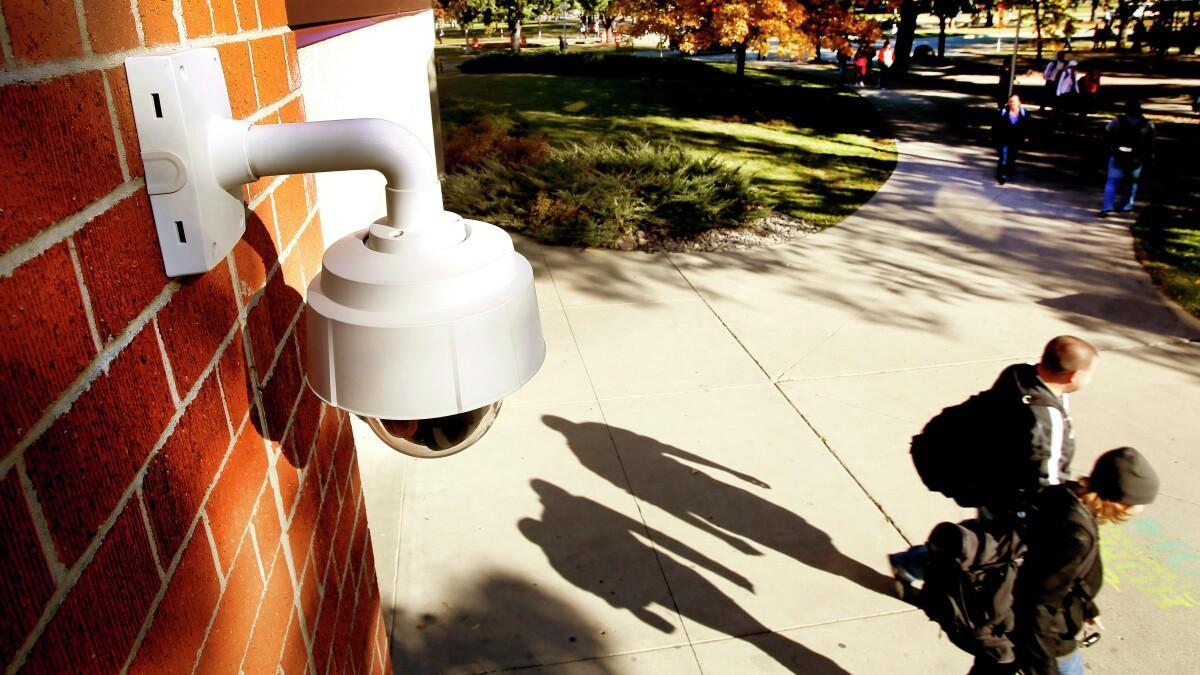CCTV: (107, 45, 539, 479)
